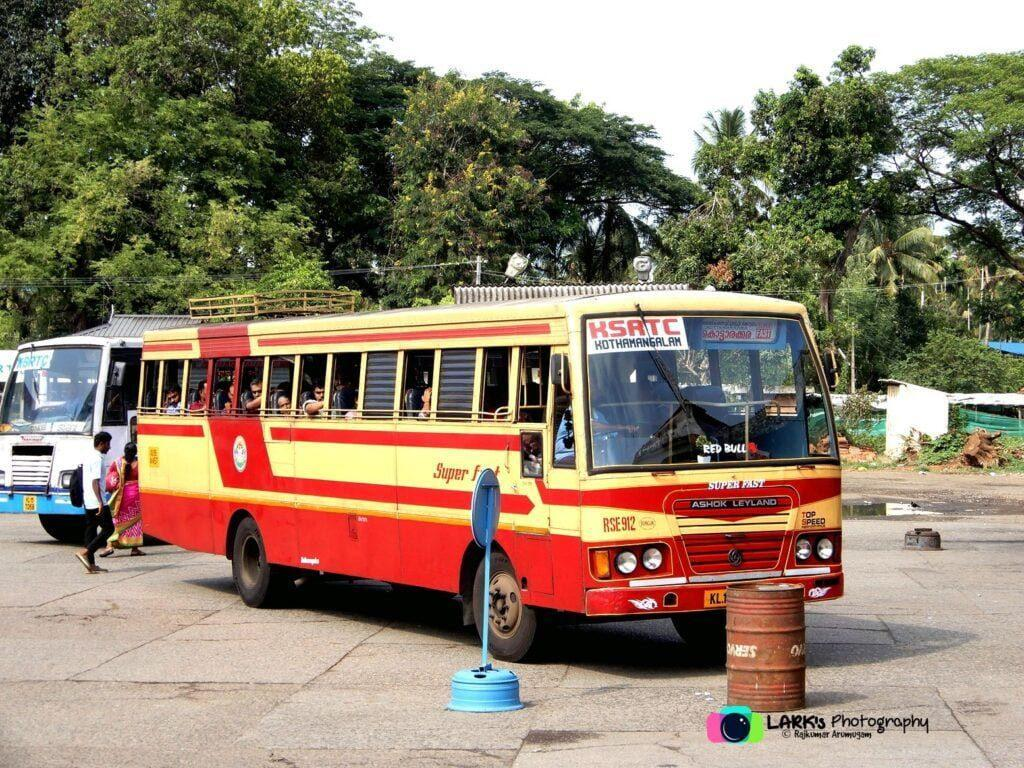Bus: (140, 289, 844, 662)
